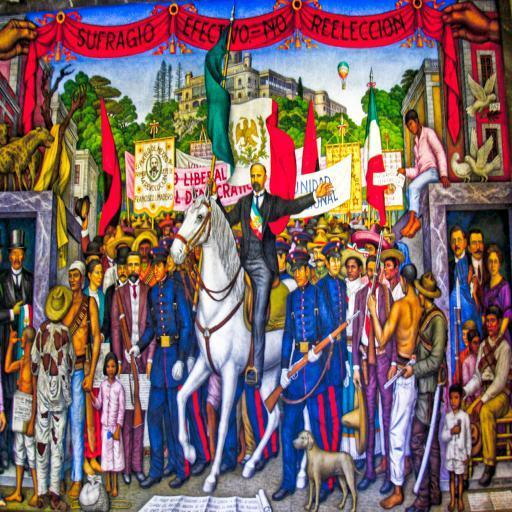horse: (175, 180, 308, 490)
